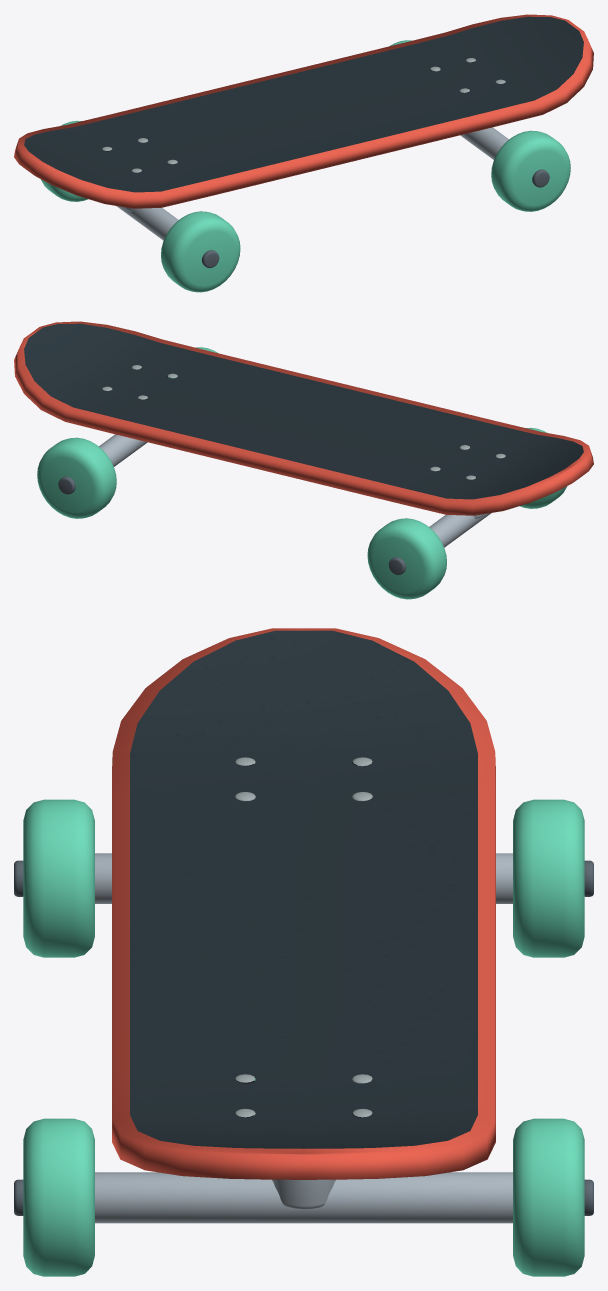
File: skateboard.glb
3 renders of one model, top to bottom at view 1: azimuth 30°, elevation 25°; view 2: azimuth 150°, elevation 25°; view 3: azimuth 270°, elevation 25°, orthographic. The views are drawn at different scales.
Visible parts, largest first — view 1: skateboard_textured_mesh; view 2: skateboard_textured_mesh; view 3: skateboard_textured_mesh.
Part boxes in pixels (<box>): skateboard_textured_mesh: <box>14,14,593,292</box>; skateboard_textured_mesh: <box>14,321,593,599</box>; skateboard_textured_mesh: <box>14,628,593,1276</box>.
Bounding box in the file's own units: 4.96 × 0.9529 × 2.27.
1 material, 1 textured.
